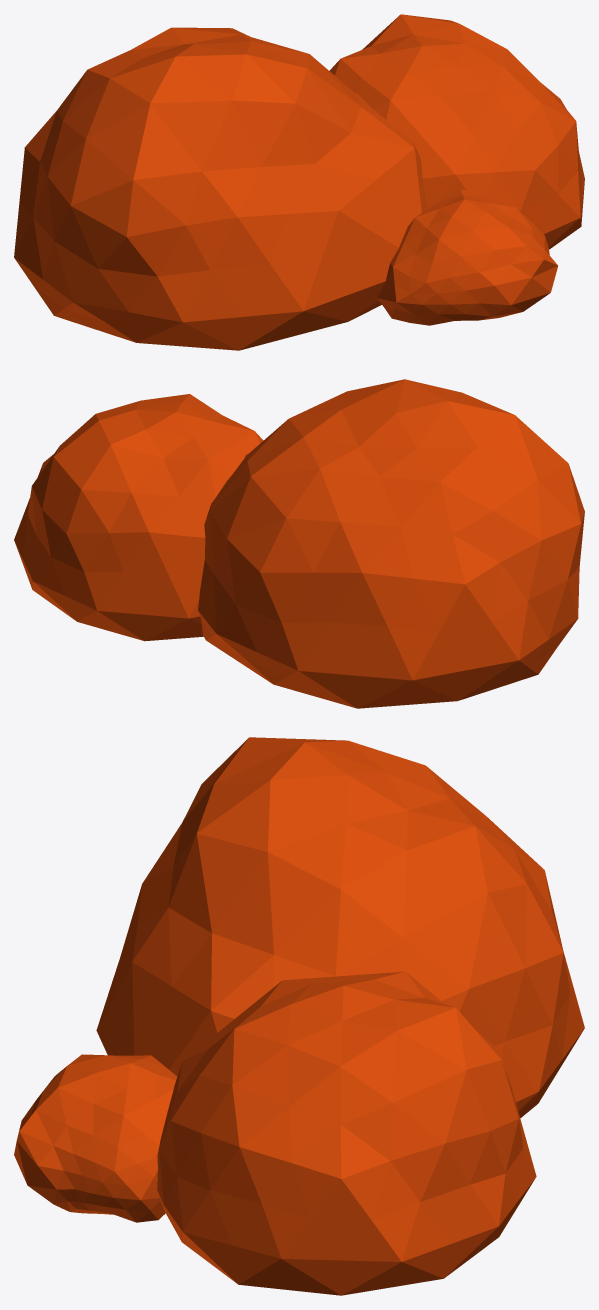
The model's file is Bush3.fbx.
3 views of the same model, one above another, from view 1: azimuth 30°, elevation 25°; view 2: azimuth 150°, elevation 25°; view 3: azimuth 270°, elevation 25° (orthographic). The views are drawn at different scales.
Parts seen in each view (by area): view 1: Bush3; view 2: Bush3; view 3: Bush3.
Part boxes in pixels (box(x1,y1,x2,y2)): Bush3: box(14, 14, 584, 350); Bush3: box(14, 379, 584, 708); Bush3: box(14, 737, 584, 1295).
Bounding box in the file's own units: 941 × 418 × 697.
